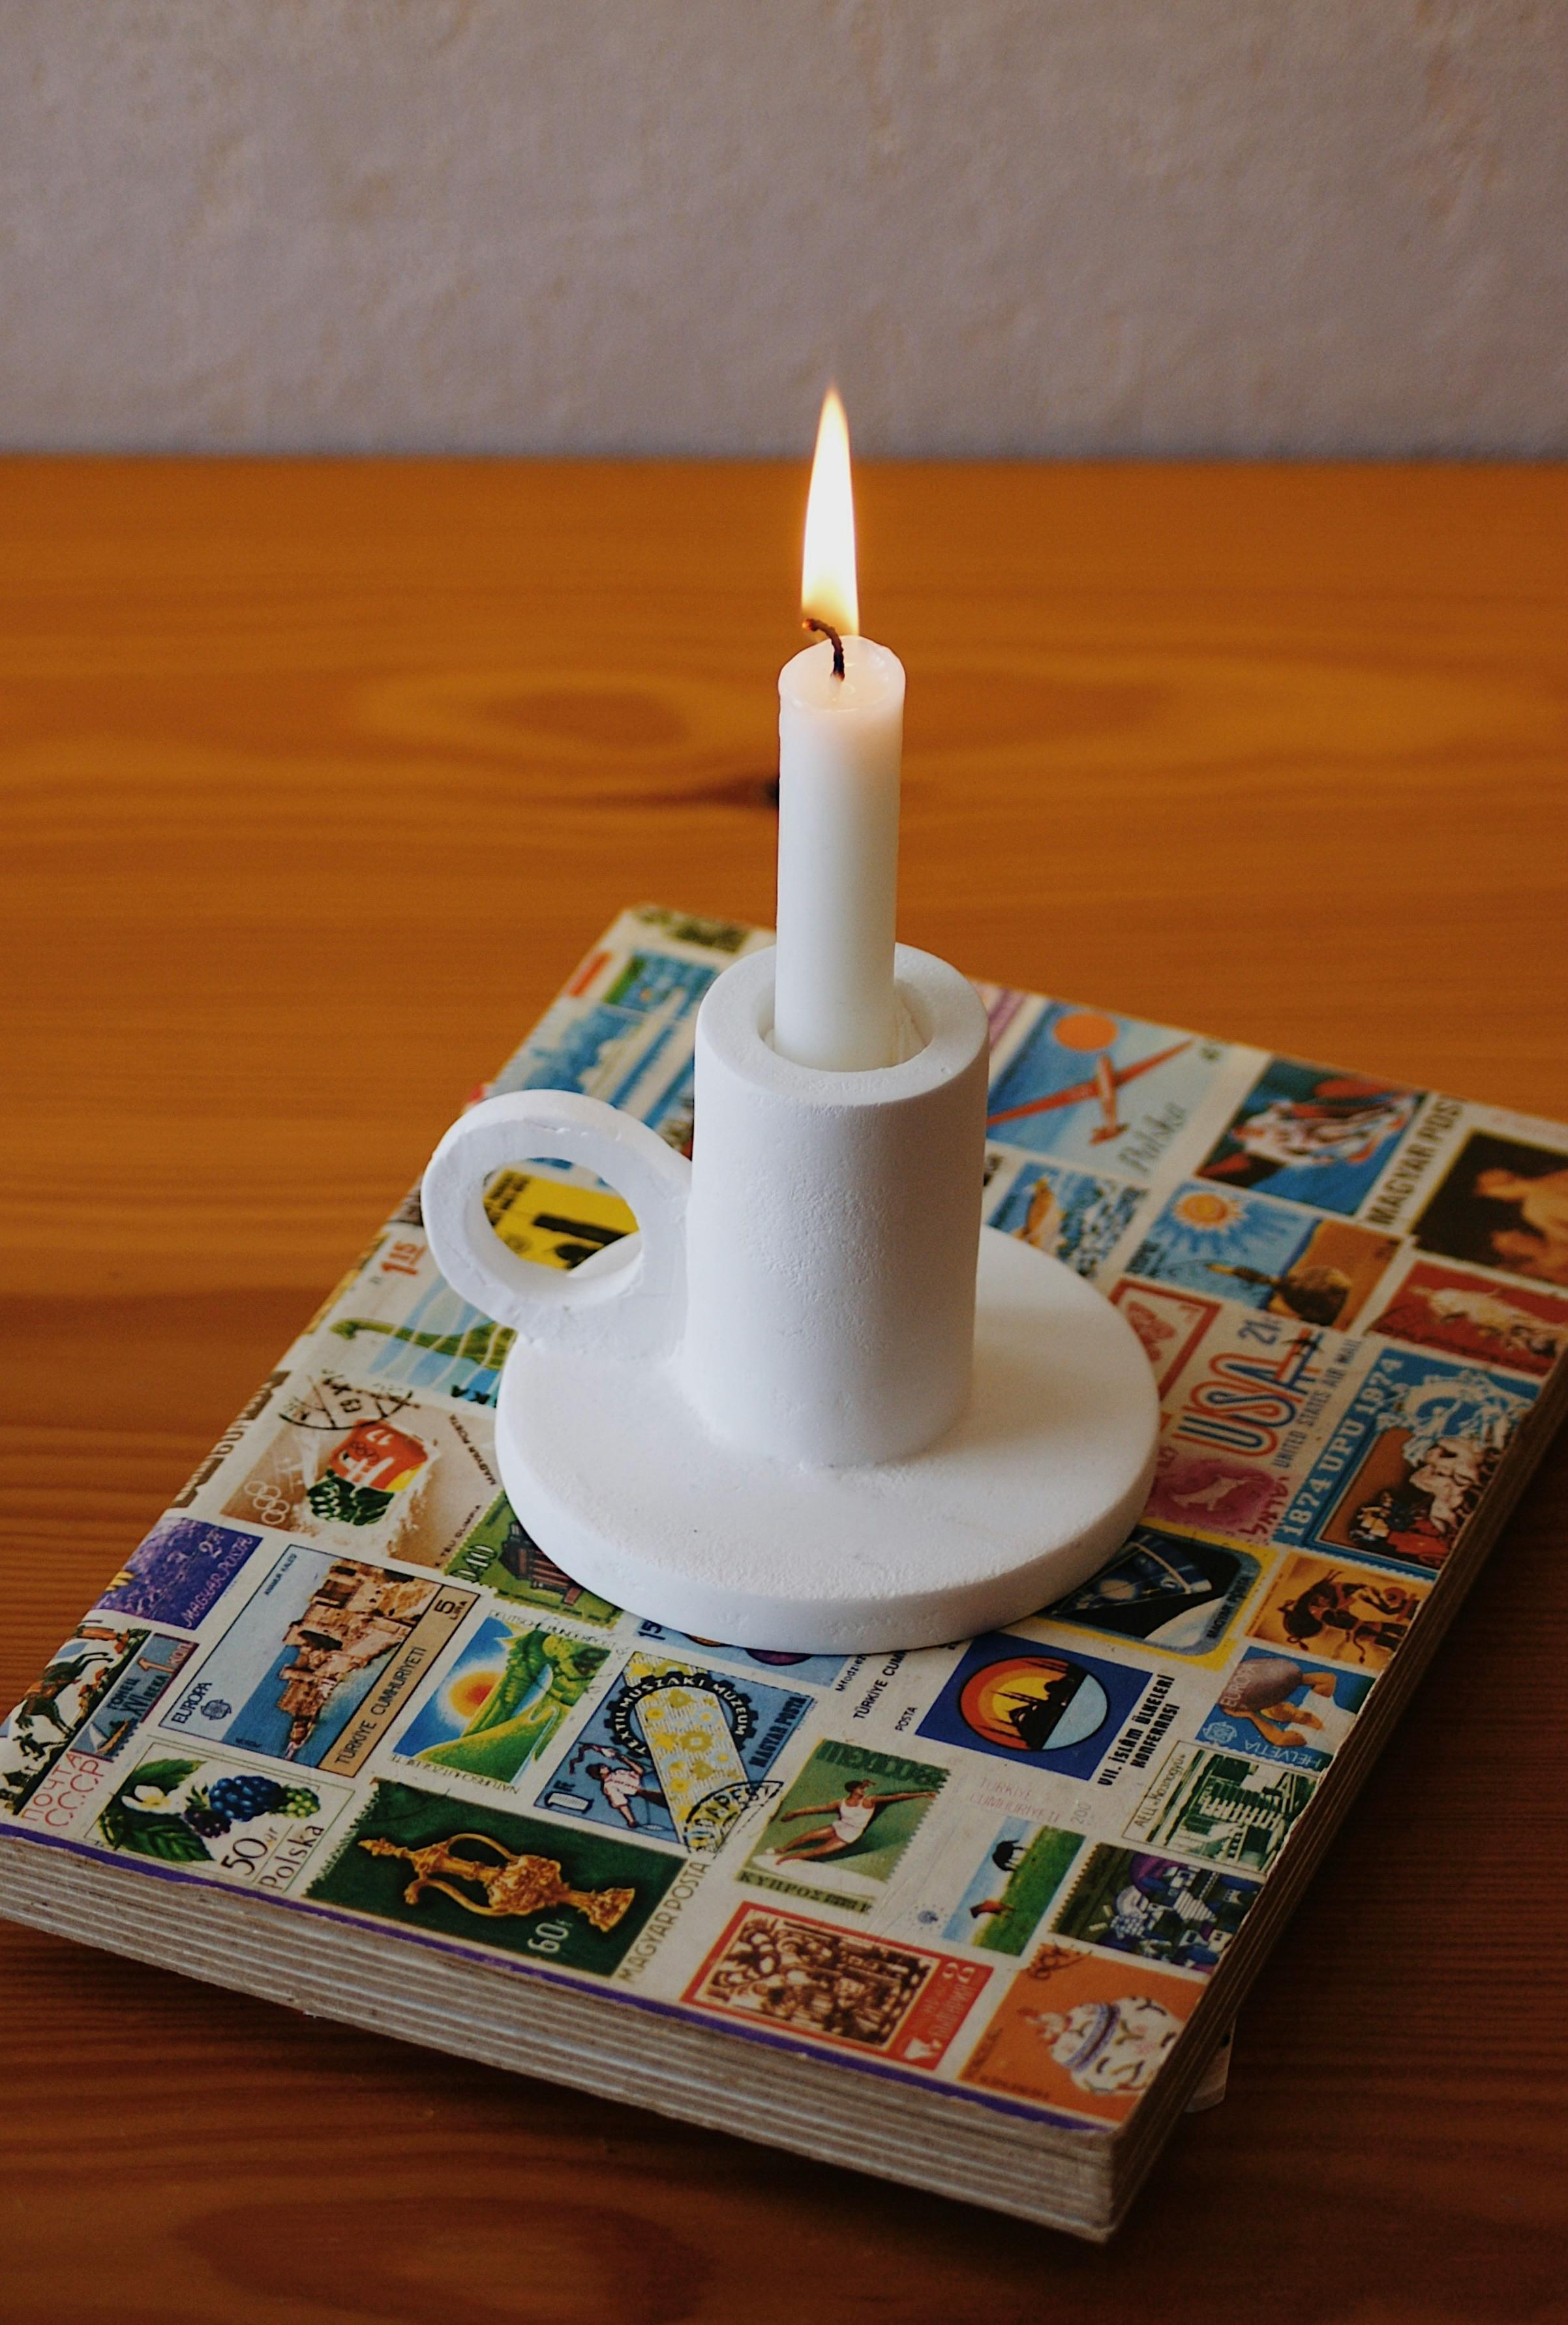Fire: (777, 367, 901, 663)
